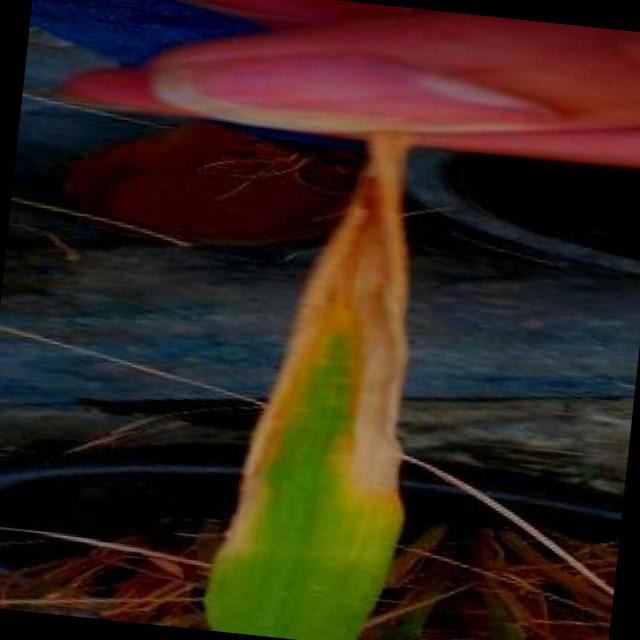Rice_Bacterial_Blight: (210, 259, 423, 640)
